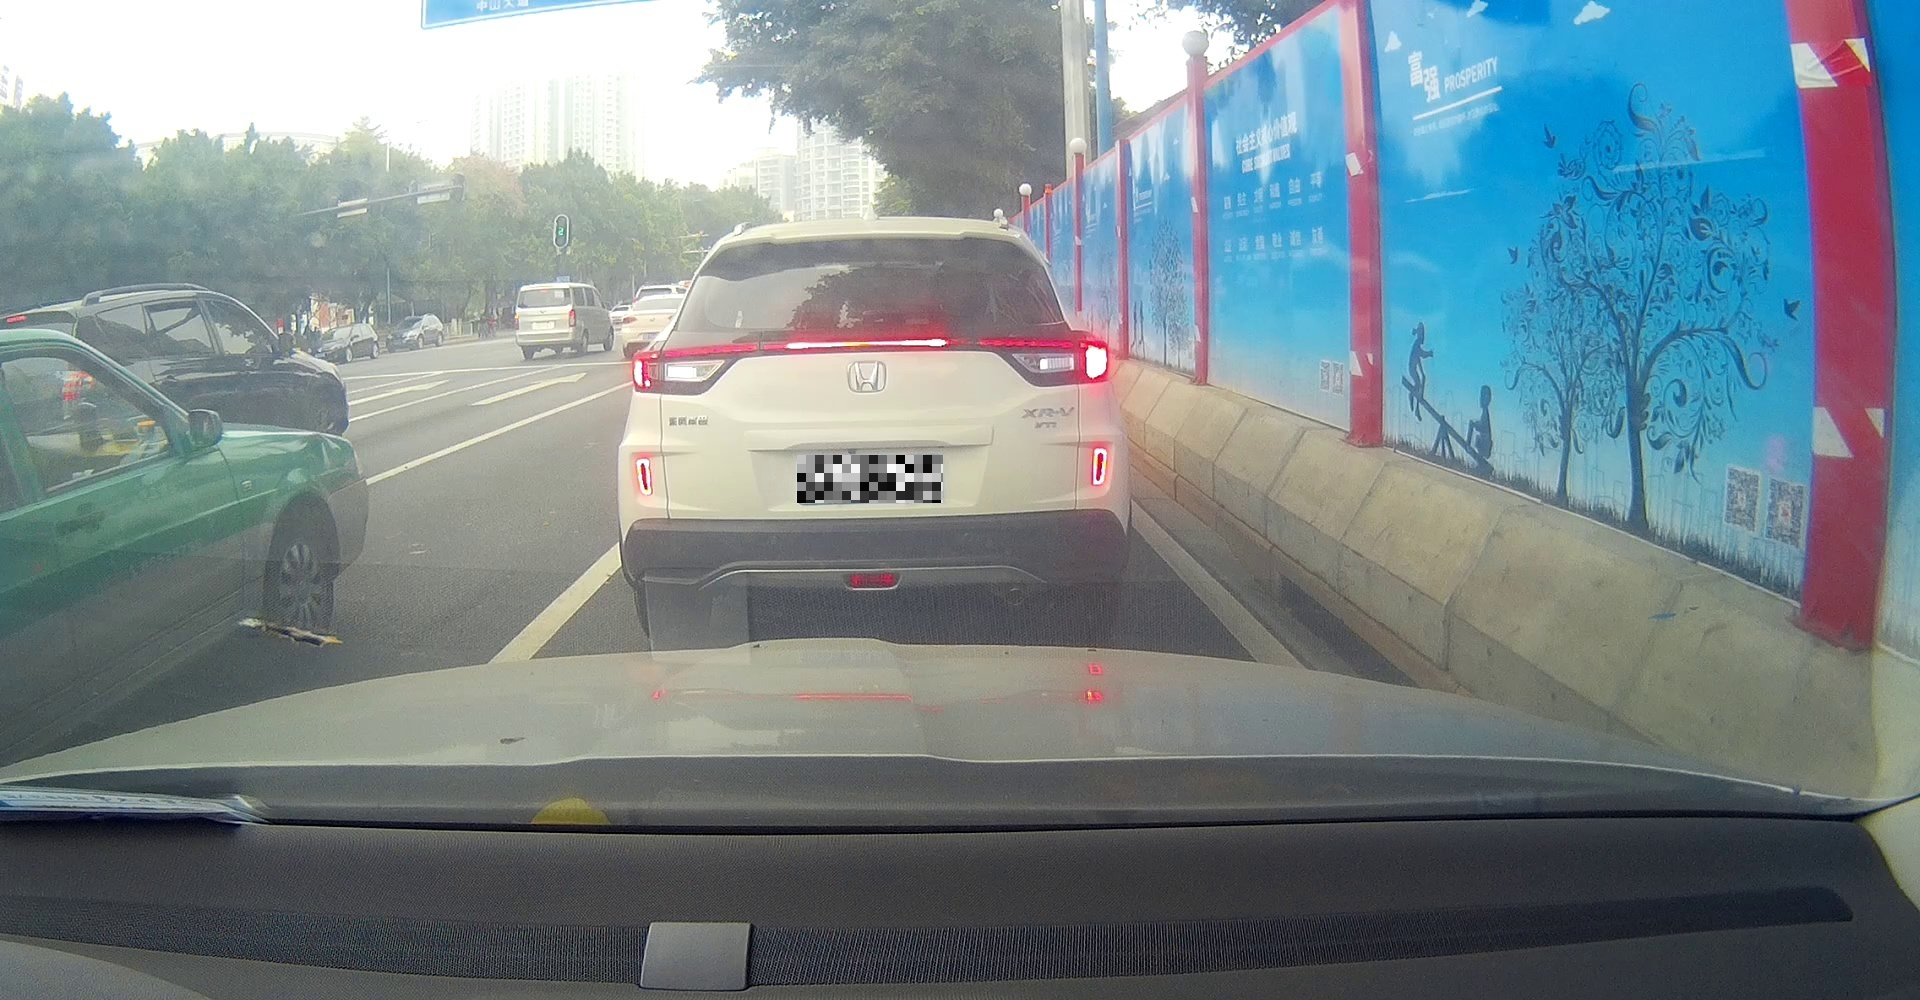L_light: (631, 343, 759, 395), (516, 313, 521, 330)
R_light: (977, 338, 1109, 387), (569, 308, 577, 327)
T_light: (785, 338, 947, 348), (537, 289, 549, 292)
day-brake: (616, 214, 1130, 638), (514, 283, 577, 360)
plate_1: (797, 456, 943, 503)
